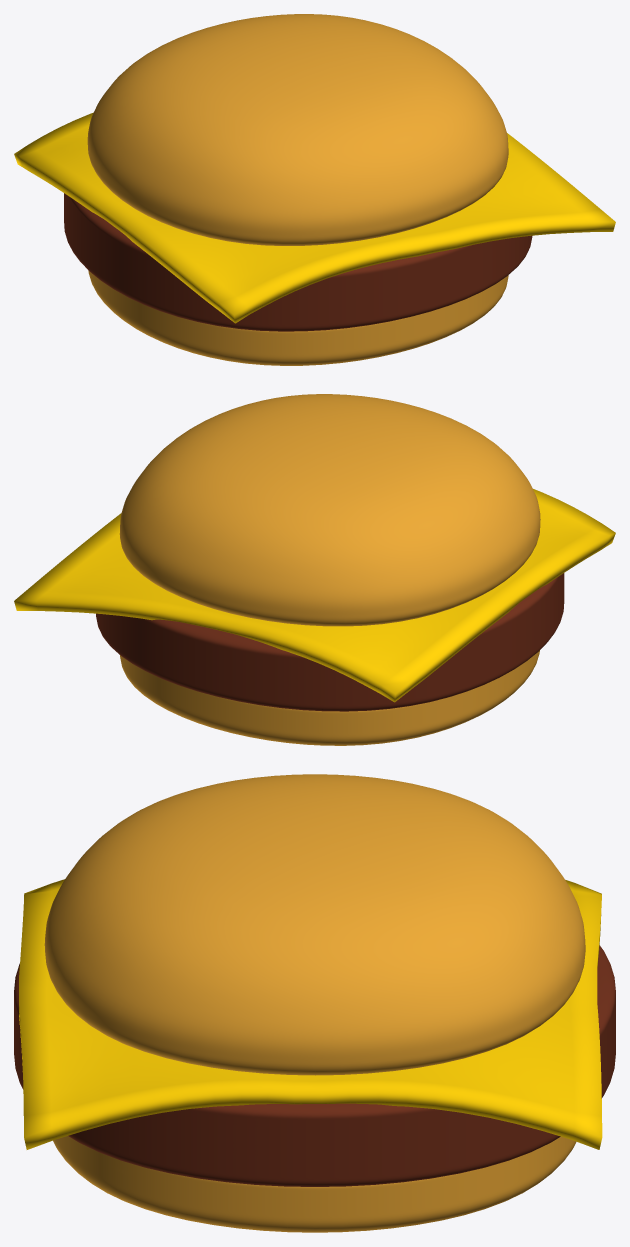
File: hamburger.glb
3 renders of one model, top to bottom at view 1: azimuth 30°, elevation 25°; view 2: azimuth 150°, elevation 25°; view 3: azimuth 270°, elevation 25°, orthographic. The views are drawn at different scales.
Parts seen in each view (by area): view 1: Cube.002, Plane, Cube.001, Cube; view 2: Cube.002, Plane, Cube.001, Cube; view 3: Cube.002, Plane, Cube.001, Cube.
Boxes of the visible parts, x1,y1,x2,y2 form: Cube.002: (87, 14, 508, 245); Plane: (14, 112, 615, 323); Cube.001: (64, 193, 532, 331); Cube: (88, 270, 508, 365); Cube.002: (119, 394, 540, 626); Plane: (14, 489, 615, 702); Cube.001: (96, 573, 564, 711); Cube: (120, 650, 539, 745); Cube.002: (44, 774, 585, 1075); Plane: (19, 879, 602, 1149); Cube.001: (14, 945, 615, 1186); Cube: (53, 1136, 576, 1232).
Size of the model in its own units: 13.13 by 7.44 by 12.87.
